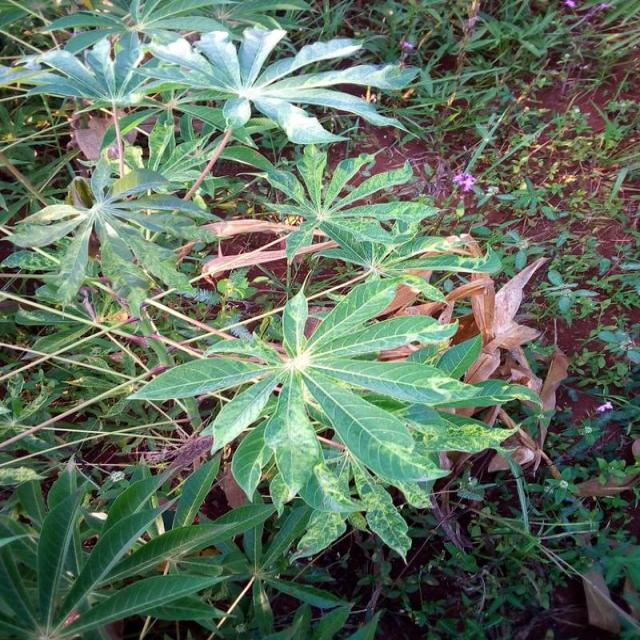cassava leaf: (125, 272, 542, 562), (147, 24, 419, 145)
